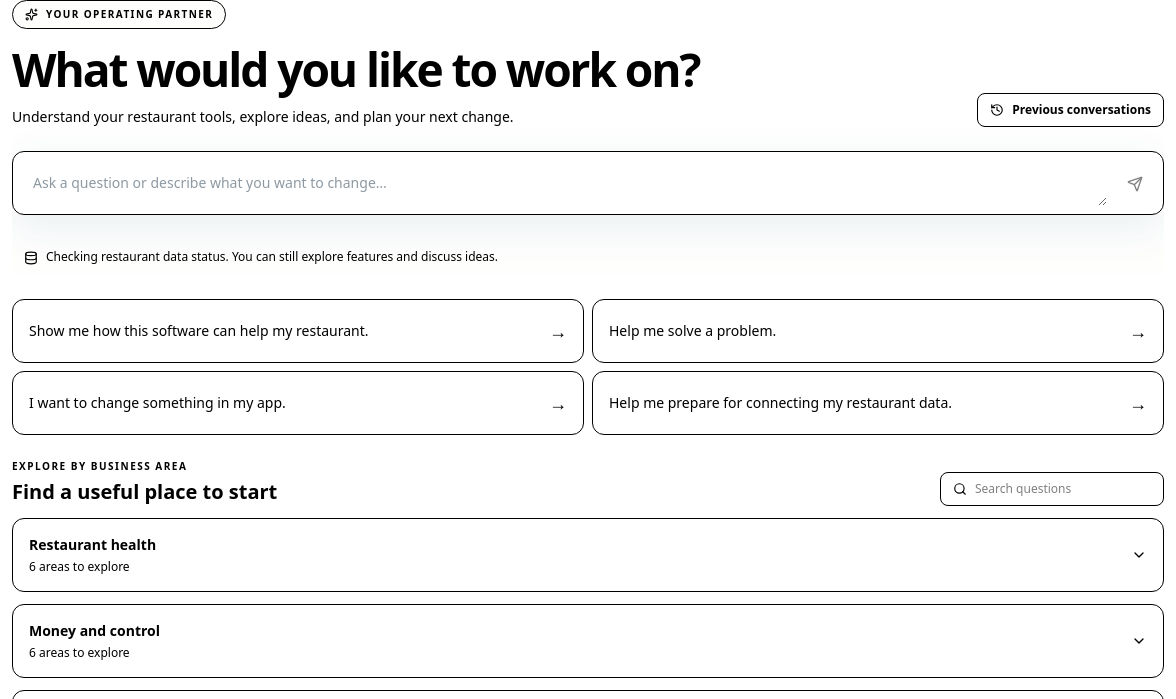
Scenario: owner OS without restaurant data › submits a typed analytical question through auto routing and explains missing data
Type "Which ingredients are running low? password=should-not-leak" into the text box named "Ask or describe a change".
click(564, 183); type("Which ingredients are running low? password=should-not-leak")  # box [21, 160, 1107, 206]
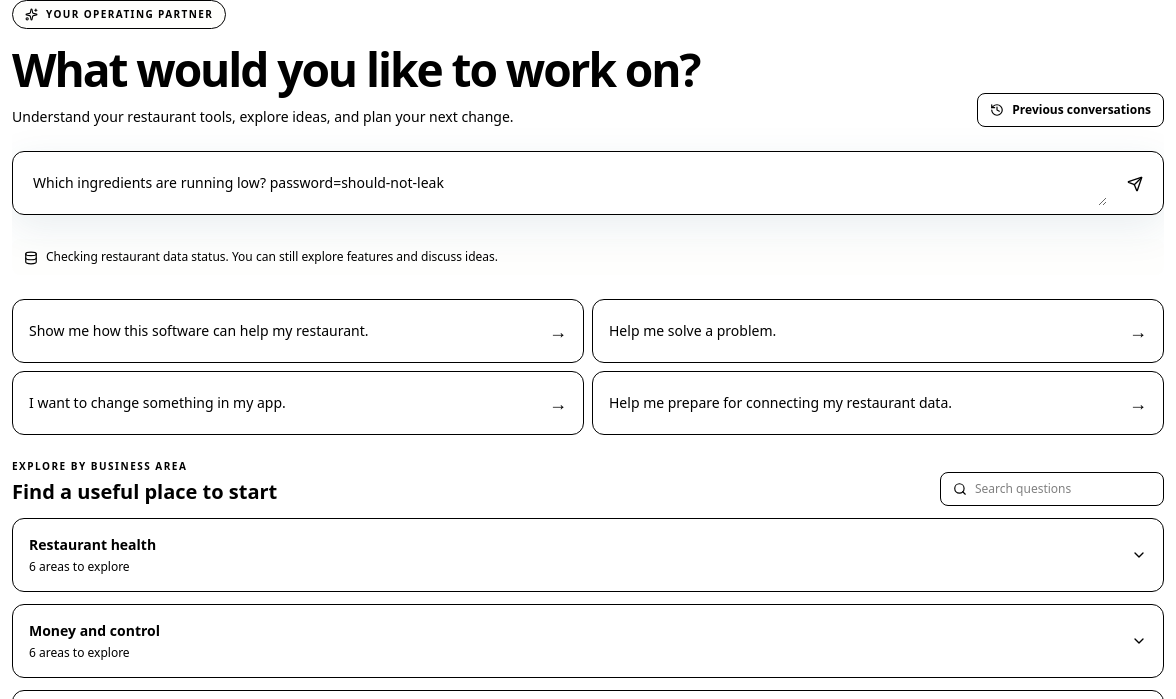
Click the button named "Send question".
click(1135, 184)  # box [1115, 164, 1155, 204]
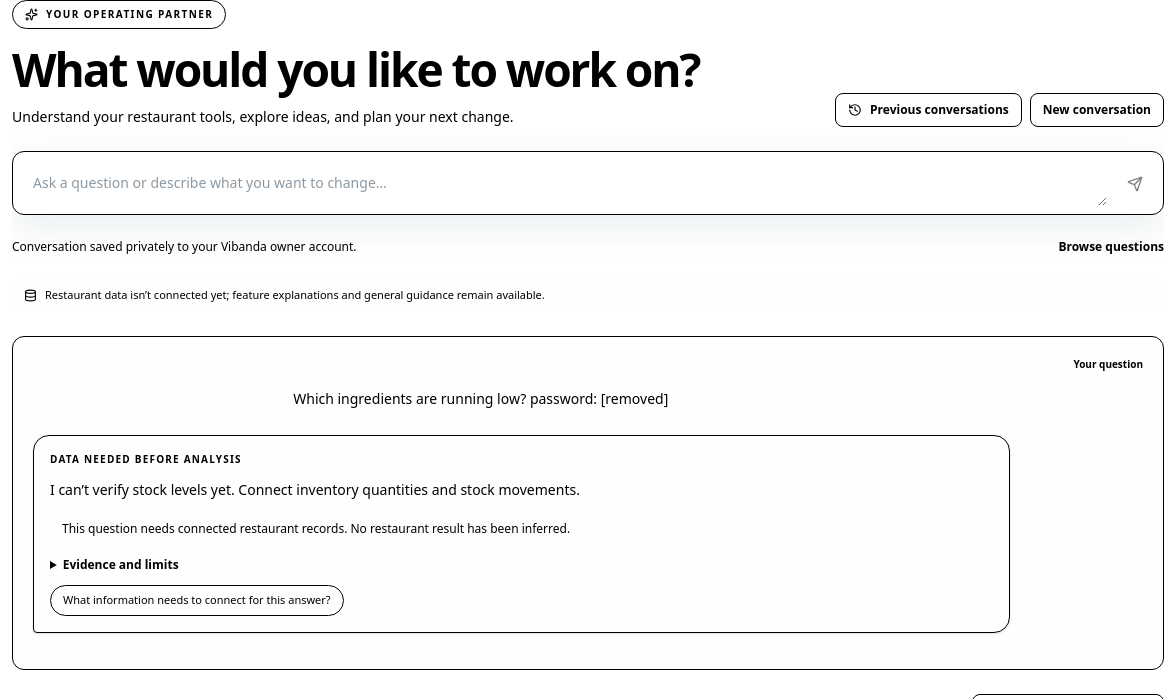
Now the text "I can’t verify stock levels yet. Connect inventory quantities and stock movements." is shown, box [50, 480, 580, 499]
Now the text "Data needed before analysis" is shown, box [50, 452, 242, 466]
Now the text "needs connected restaurant records" is shown, box [62, 520, 570, 537]
